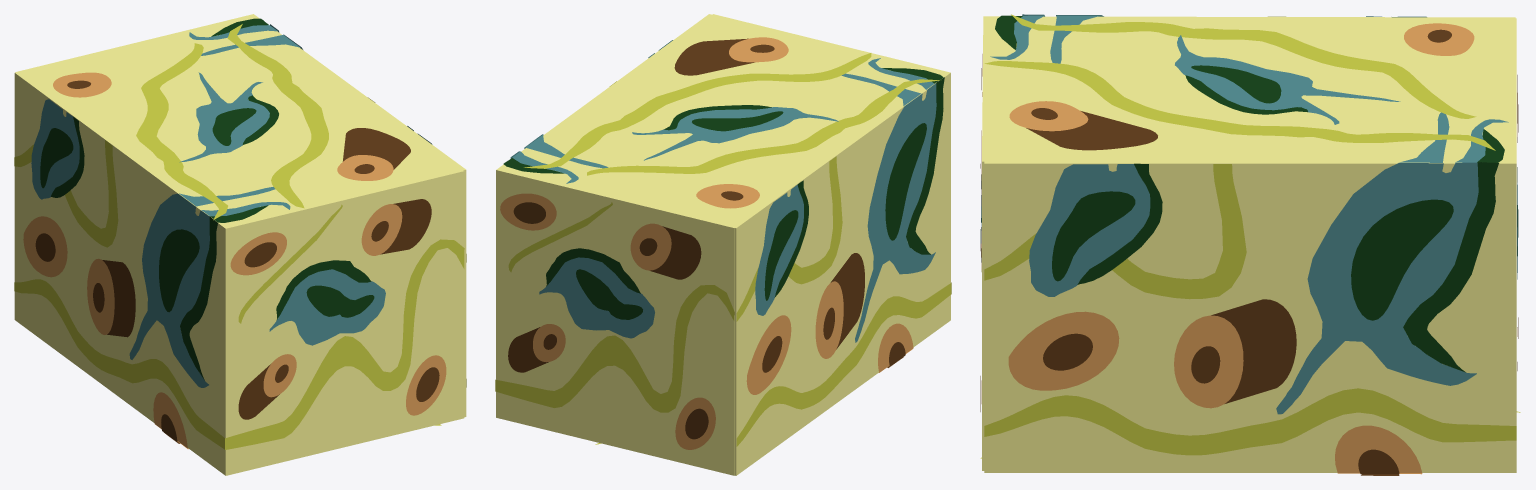
Rendered from Connective.gltf.
3 renders of one model, left to right at view 1: azimuth 30°, elevation 25°; view 2: azimuth 150°, elevation 25°; view 3: azimuth 270°, elevation 25°, orthographic. The views are drawn at different scales.
Visible parts, largest first — view 1: Circle.035; view 2: Circle.035; view 3: Circle.035.
Boxes of the visible parts, left/top/right/bottom form: Circle.035: left=14, top=14, right=466, bottom=475; Circle.035: left=495, top=14, right=951, bottom=475; Circle.035: left=980, top=14, right=1520, bottom=475.
Bounding box in the file's own units: 3.85 × 3.74 × 5.84.
